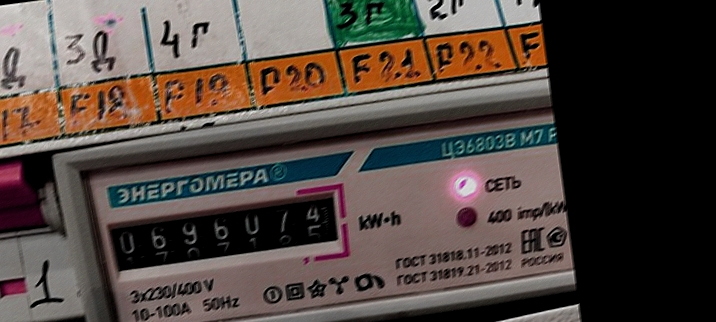0: (116, 229, 138, 256), (241, 209, 262, 237)
4: (303, 200, 321, 224)
5: (306, 223, 324, 245)
6: (210, 213, 231, 242), (147, 224, 168, 251)
7: (273, 206, 292, 234)
9: (179, 219, 198, 247)
screen: (95, 180, 357, 293)
